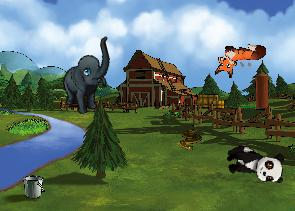elephant: (53, 36, 124, 117)
fox: (214, 43, 266, 78)
panda: (222, 143, 287, 185)
